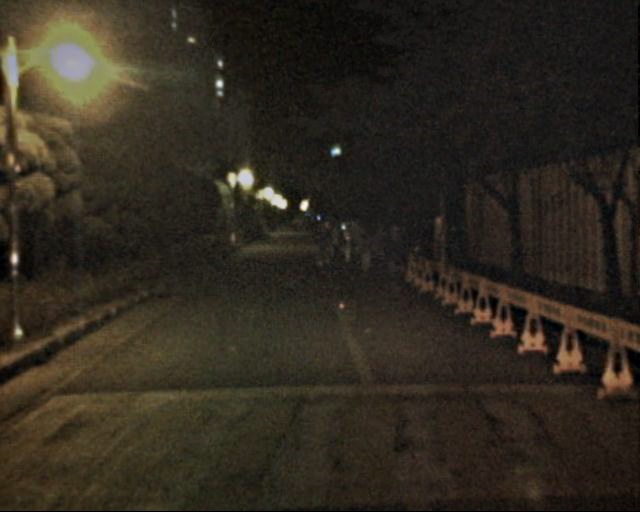person: (382, 226, 408, 290), (341, 217, 362, 268), (372, 218, 393, 269), (309, 219, 330, 269), (325, 220, 344, 267), (356, 228, 375, 275)
